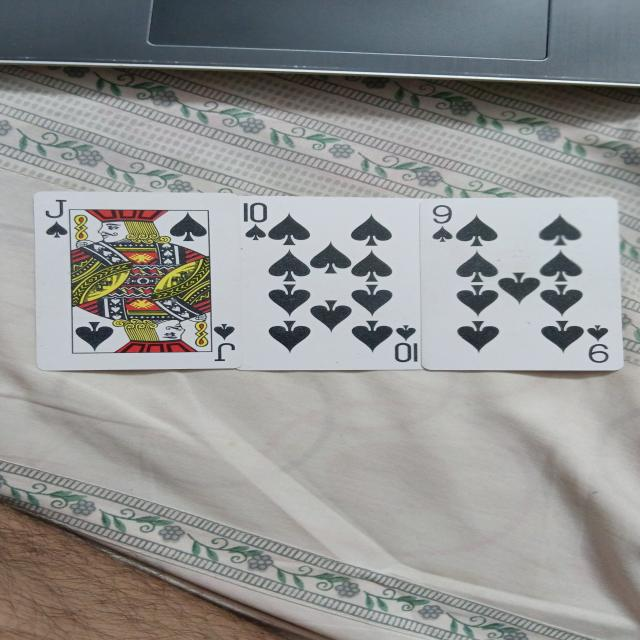9S: (419, 200, 627, 372)
JS: (31, 190, 243, 370)
